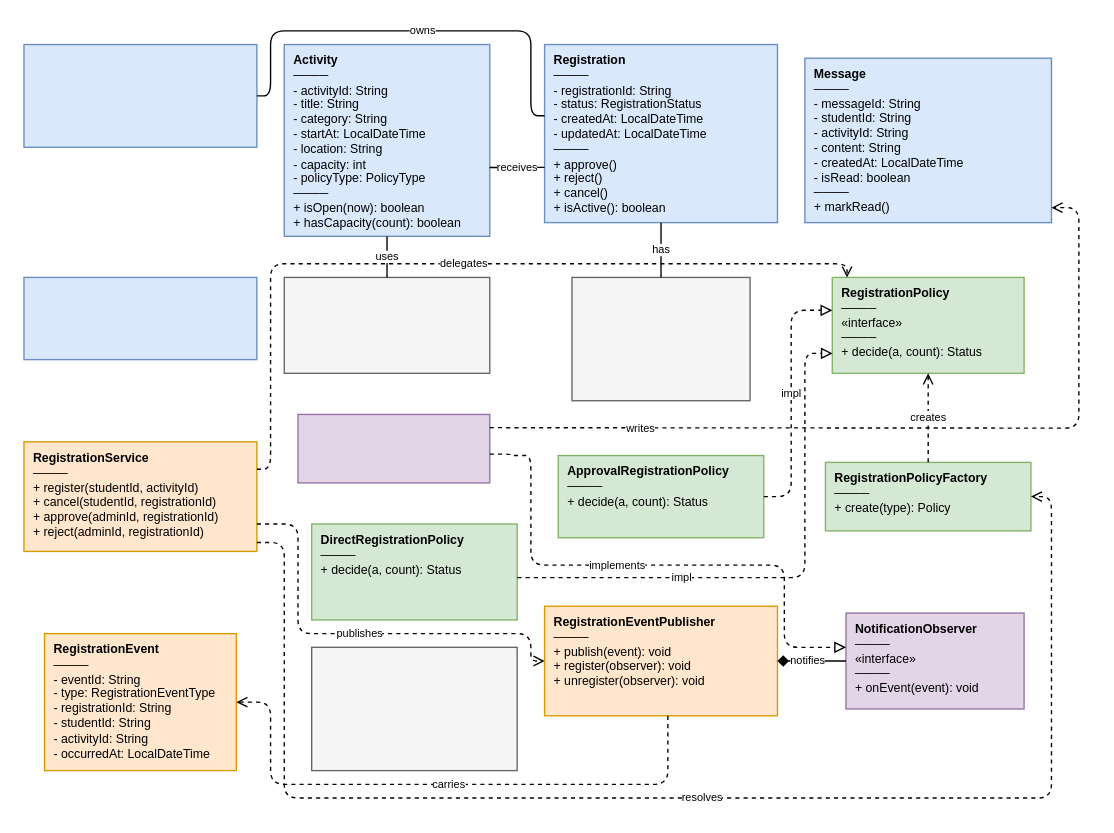
Image size: 1114x833. Some labels were removed from this diagram. The shapes that lost their labels are listed below. From the top down, each one's centre as x and y in pixels, then its label:
At (x=140, y=95): "Student ──── - studentId: String - name: String".
At (x=140, y=318): "Admin ──── - adminId: String - name: String".
At (x=386, y=324): "PolicyType ──── «enumeration» DIRECT APPROVAL".
At (x=660, y=338): "RegistrationStatus ──── «enumeration» PENDING APPROVED REJECTED CANCELLED".
At (x=393, y=448): "InAppNotificationObserver ──── + onEvent(event): void".
At (x=413, y=708): "RegistrationEventType ──── «enumeration» SUBMITTED APPROVED REJECTED CANCELLED".
